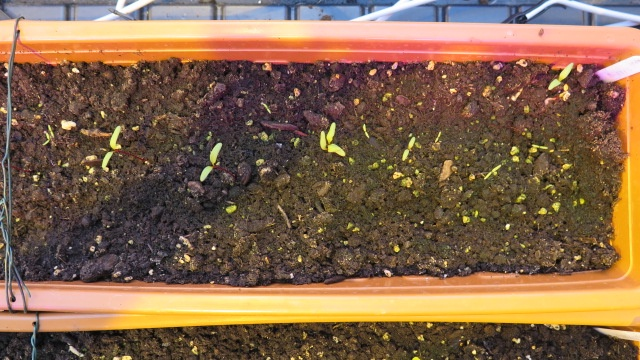crop: (98, 124, 123, 171), (197, 141, 224, 182), (320, 122, 346, 161), (398, 135, 418, 163)
weed: (546, 62, 572, 93), (43, 128, 63, 146), (483, 163, 502, 181), (359, 123, 373, 141), (530, 141, 550, 151)
